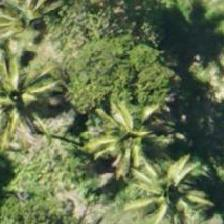coconut_tree: (86, 90, 176, 180), (131, 142, 221, 223), (0, 47, 79, 137)
